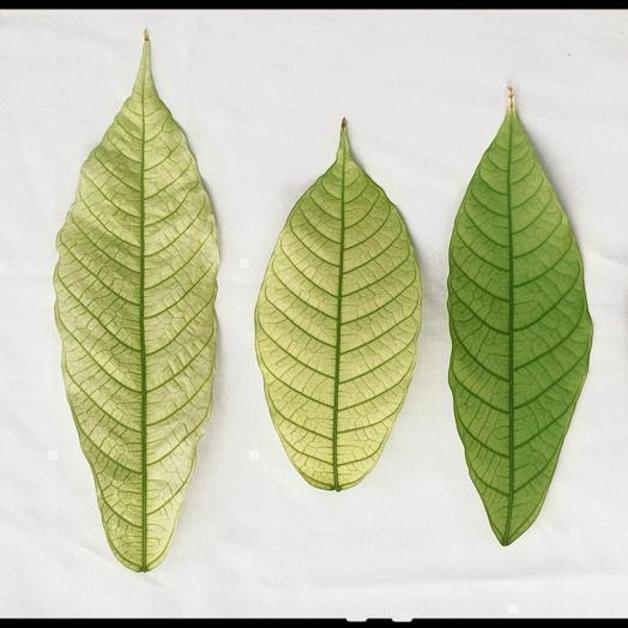Iron: (55, 32, 218, 570), (447, 88, 592, 545), (256, 119, 421, 490)
